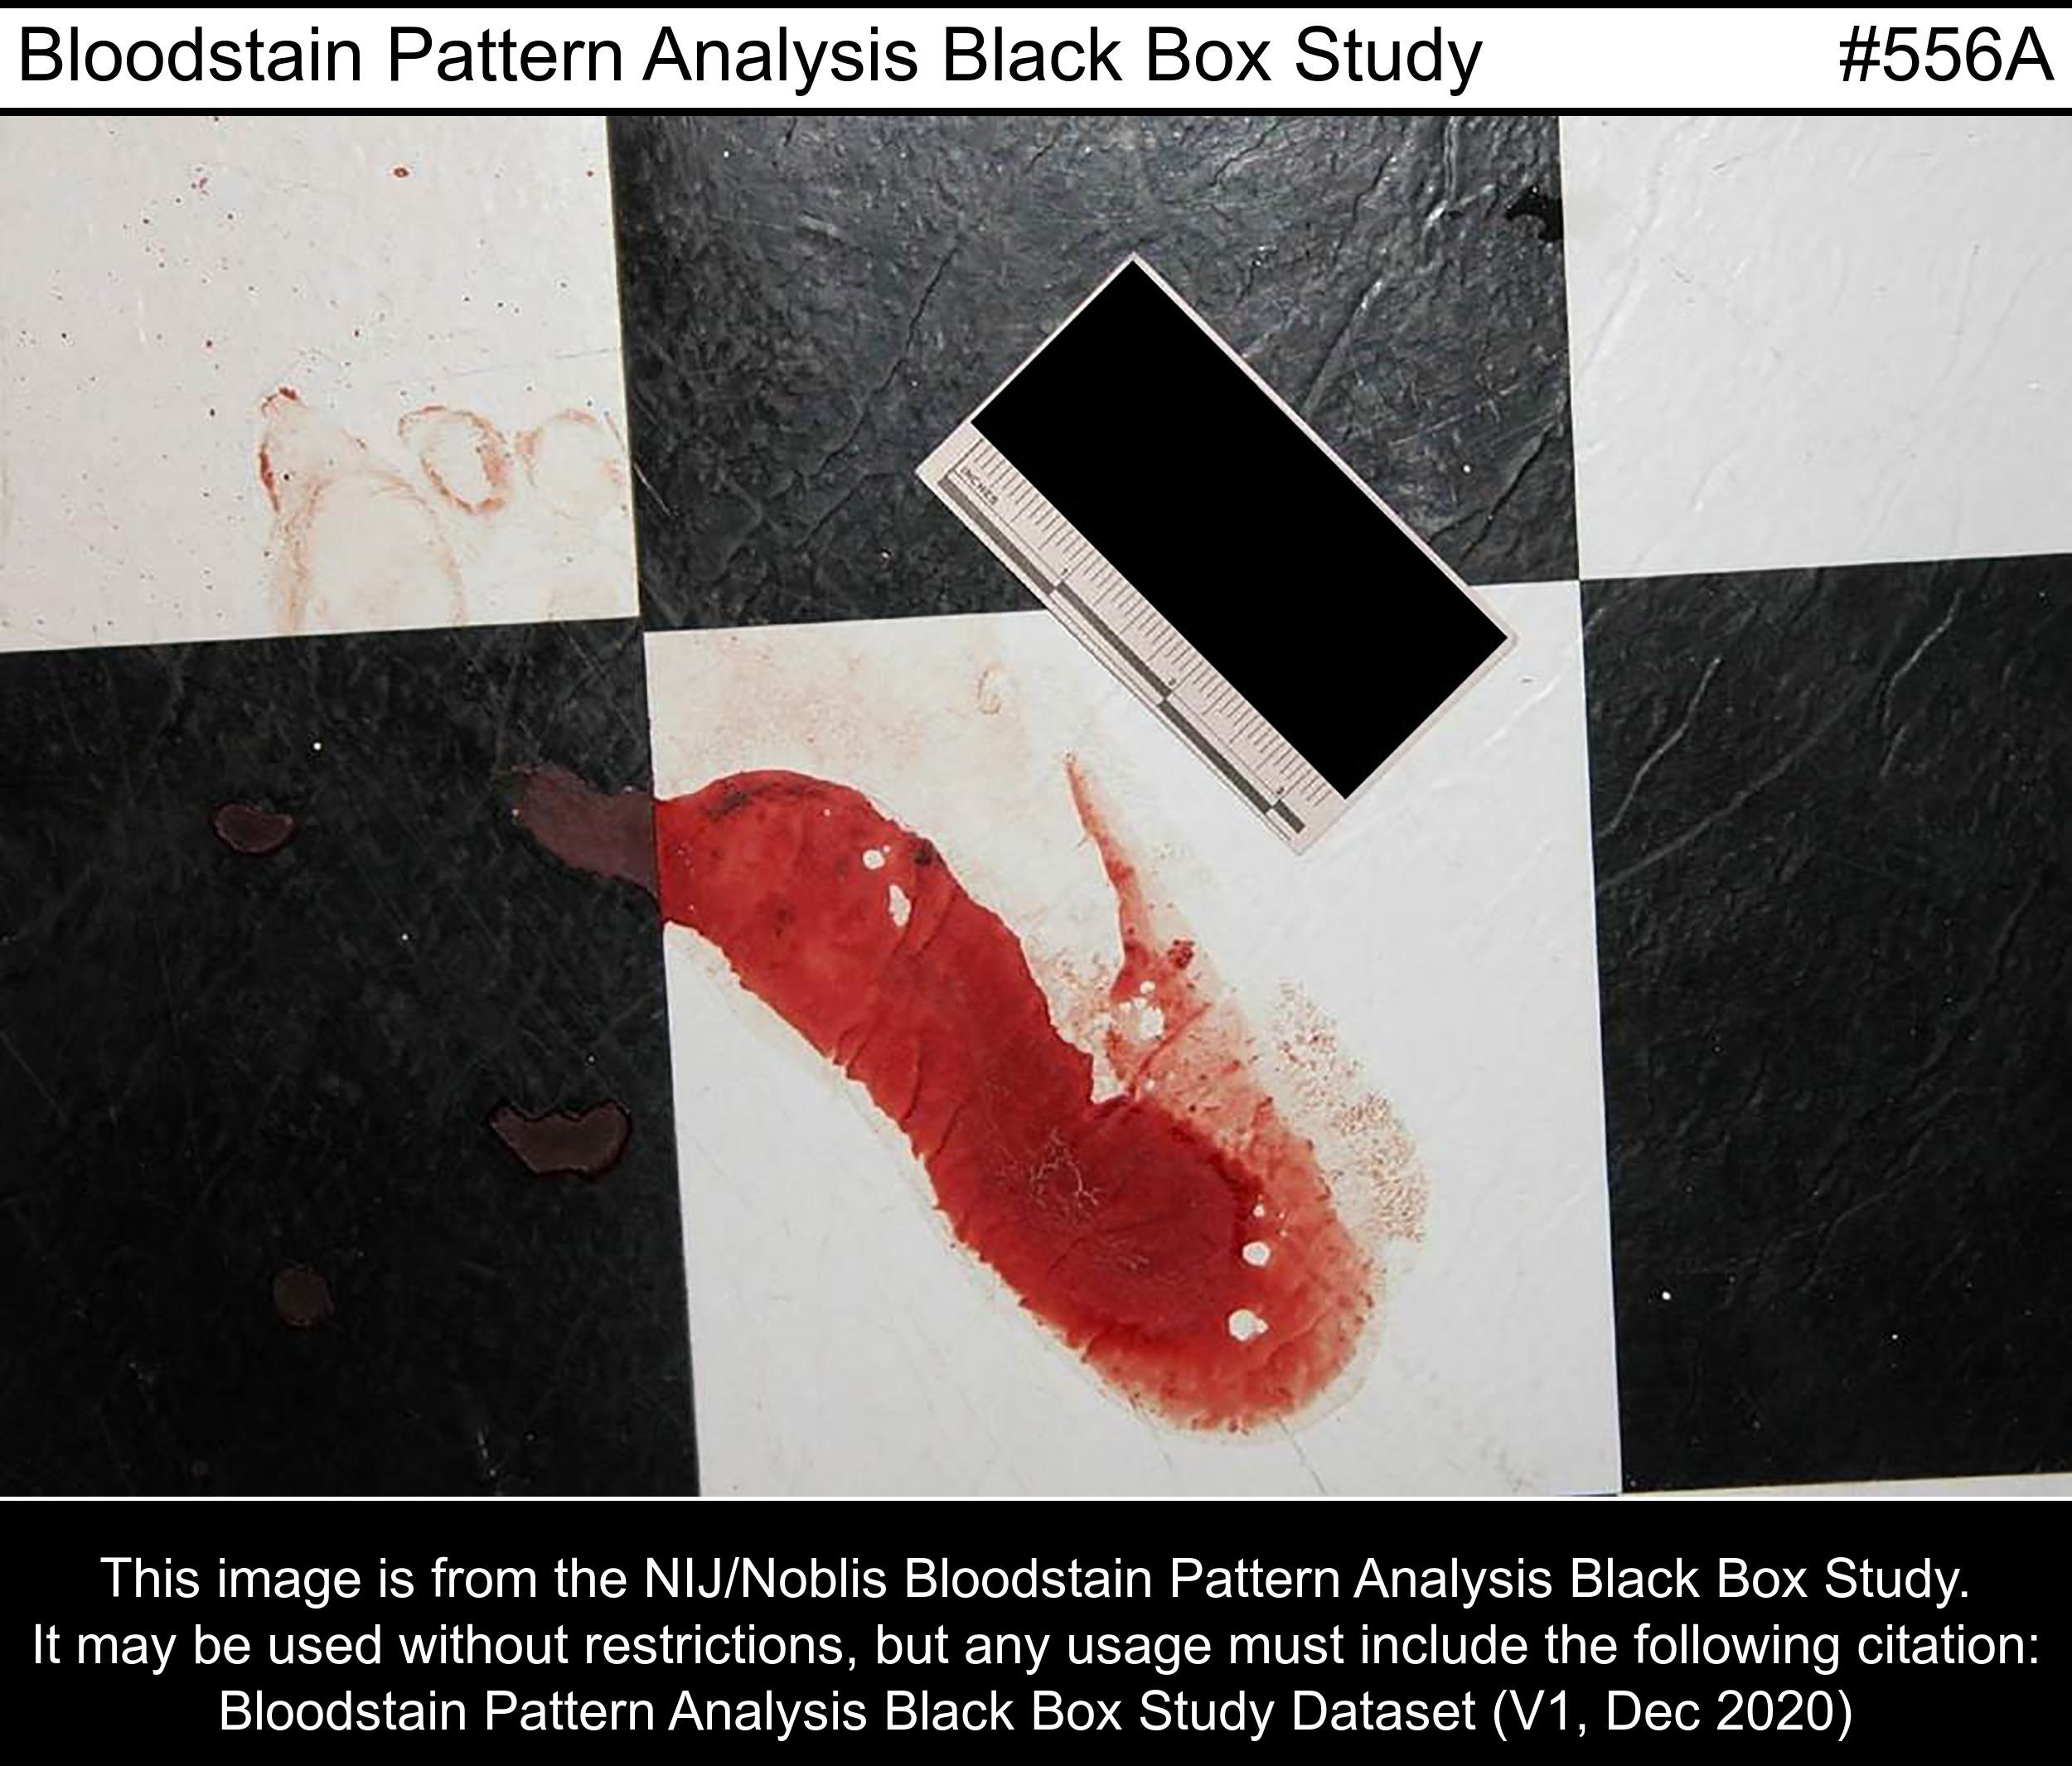Transfer: (30, 265, 1434, 1445)
